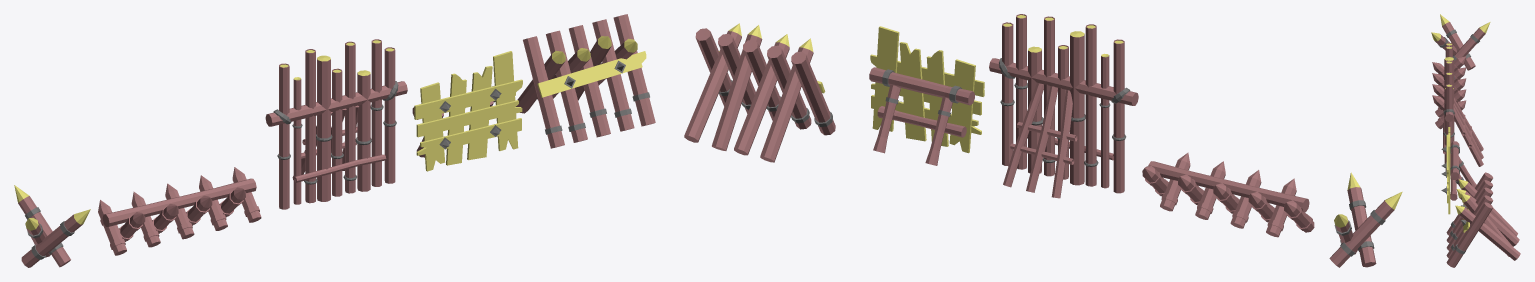
File: Barricada1.fbx
3 views of the same model, side by side, from view 1: azimuth 30°, elevation 25°; view 2: azimuth 150°, elevation 25°; view 3: azimuth 270°, elevation 25° (orthographic). The views are drawn at different scales.
Visible parts, largest first — view 1: cerca, barricada02, barricada, armadilha, armadilha02; view 2: cerca, barricada02, barricada, armadilha, armadilha02; view 3: barricada02, cerca, armadilha, barricada, armadilha02.
Boxes of the visible parts, left/top/right/bottom form: cerca: left=265, top=39, right=407, bottom=209; barricada02: left=516, top=14, right=655, bottom=148; barricada: left=412, top=51, right=522, bottom=171; armadilha: left=98, top=167, right=261, bottom=255; armadilha02: left=14, top=185, right=90, bottom=267; cerca: left=989, top=14, right=1138, bottom=198; barricada02: left=684, top=23, right=835, bottom=162; barricada: left=869, top=26, right=984, bottom=165; armadilha: left=1142, top=152, right=1314, bottom=237; armadilha02: left=1329, top=172, right=1402, bottom=267; barricada02: left=1446, top=172, right=1520, bottom=267; cerca: left=1443, top=42, right=1483, bottom=175; armadilha: left=1432, top=56, right=1466, bottom=129; barricada: left=1441, top=127, right=1476, bottom=214; armadilha02: left=1431, top=14, right=1490, bottom=70.
Bounding box in the file's own units: 4477 × 1078 × 809.
